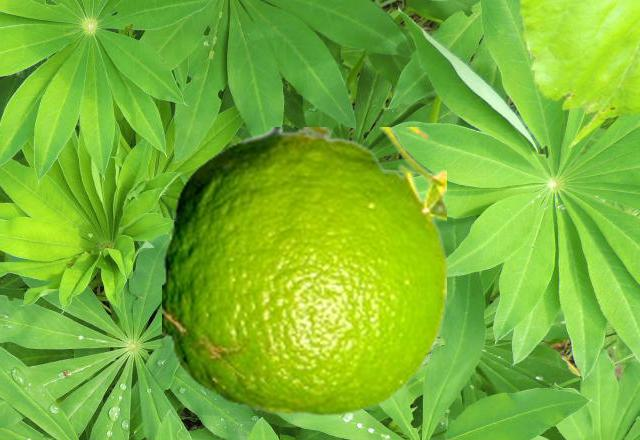dalandan: (162, 127, 445, 415)
